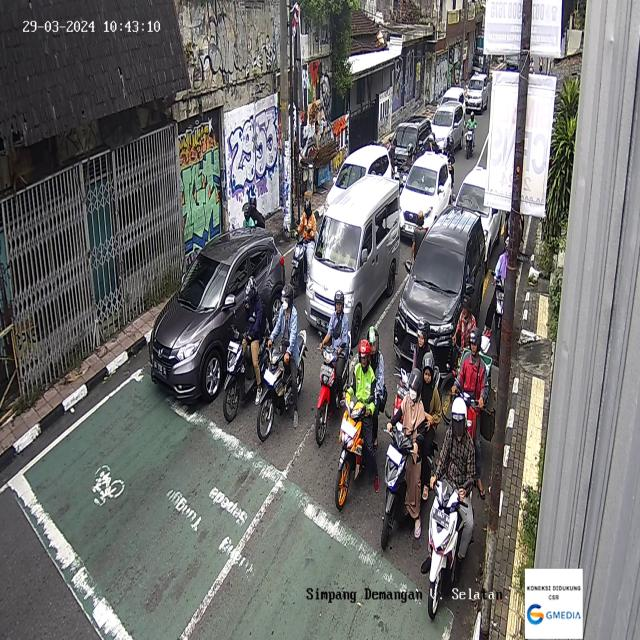car: (148, 226, 286, 405), (304, 172, 400, 347), (393, 205, 486, 379), (323, 143, 393, 215), (456, 165, 502, 274), (399, 150, 452, 241), (388, 114, 432, 181), (430, 100, 465, 153), (464, 73, 489, 114)
motorcycle: (380, 352, 442, 551), (421, 396, 476, 620), (334, 325, 388, 511), (446, 324, 496, 504), (256, 284, 308, 442), (222, 277, 273, 422), (314, 290, 352, 446), (289, 198, 317, 298), (464, 110, 478, 160)
